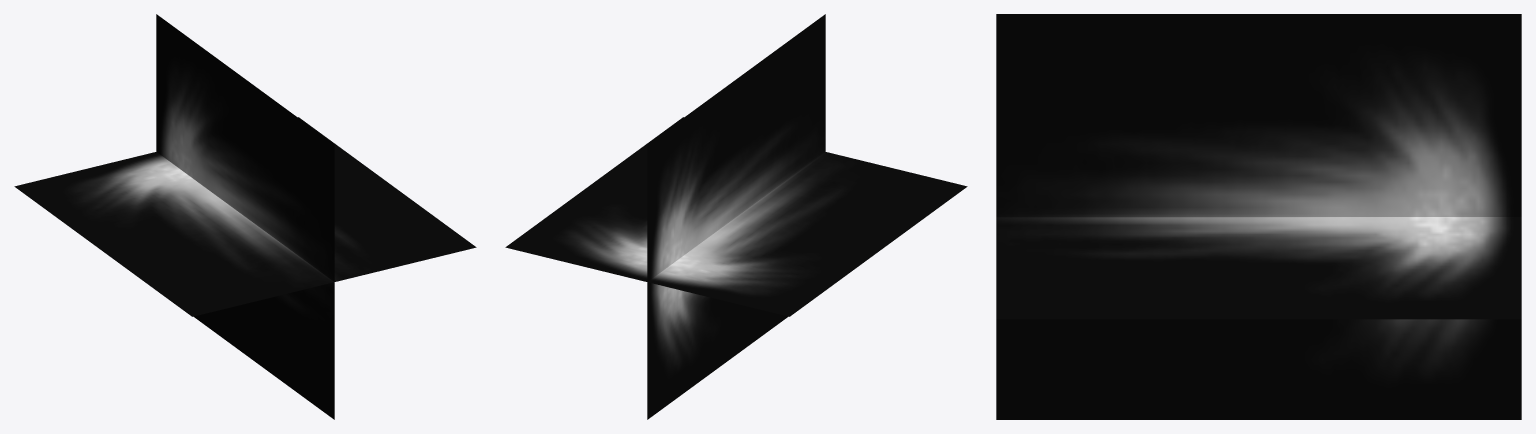
The model's file is shenjiaolieguangchangmao002.fbx.
3 views of the same model, side by side, from view 1: azimuth 30°, elevation 25°; view 2: azimuth 150°, elevation 25°; view 3: azimuth 270°, elevation 25° (orthographic). The views are drawn at different scales.
Parts seen in each view (by area): view 1: shenjiaolieguangchangmao002; view 2: shenjiaolieguangchangmao002; view 3: shenjiaolieguangchangmao002.
Boxes of the visible parts, x1,y1,x2,y2 form: shenjiaolieguangchangmao002: (14,14,476,419); shenjiaolieguangchangmao002: (505,14,967,419); shenjiaolieguangchangmao002: (996,14,1521,419).
Bounding box in the file's own units: 467 × 432 × 507.
Materials: 1 (1 with a texture image).
